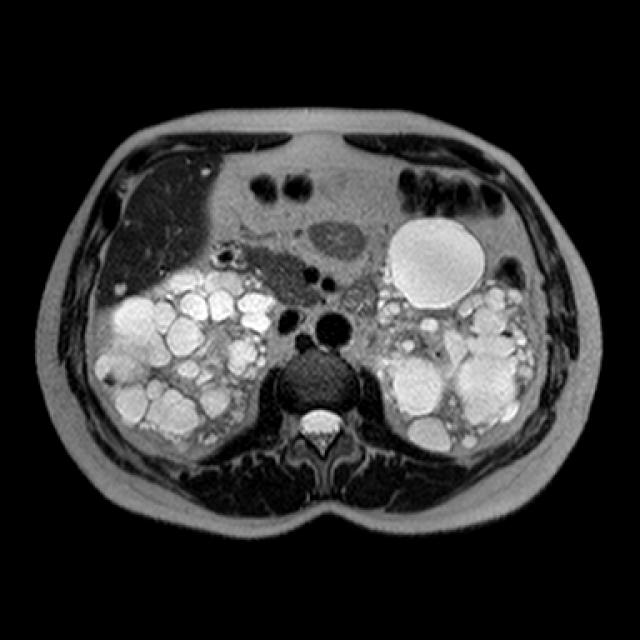sag: (93, 266, 277, 460)
sol: (369, 216, 542, 452)
